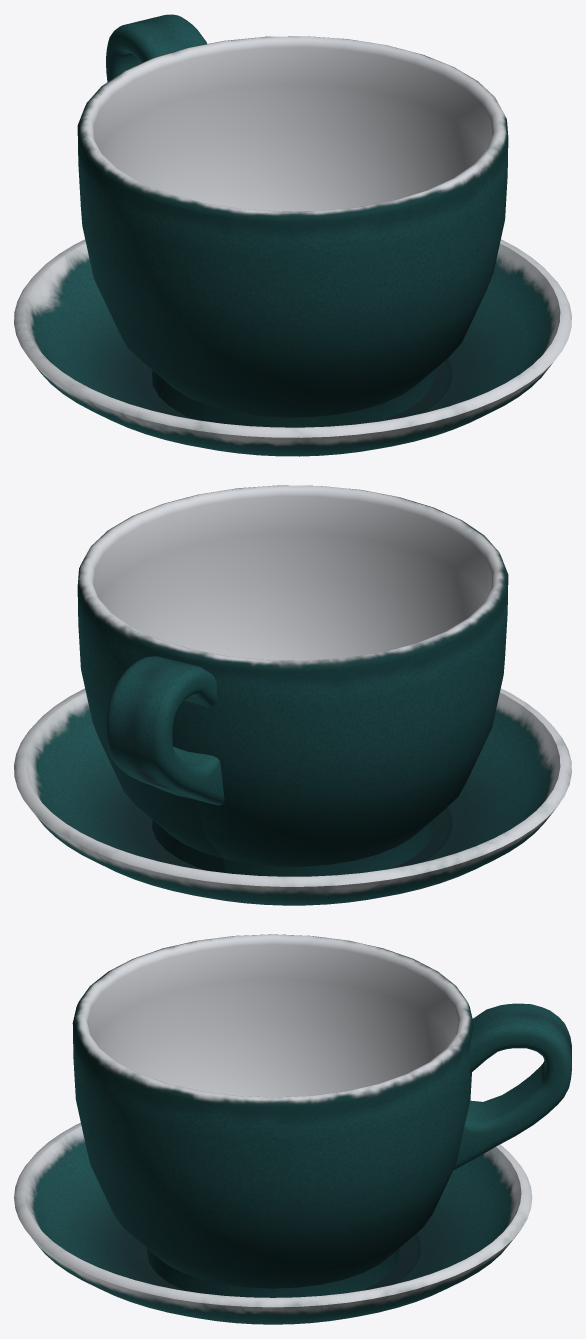
File: coffee_cup.glb
3 views of the same model, one above another, from view 1: azimuth 30°, elevation 25°; view 2: azimuth 150°, elevation 25°; view 3: azimuth 270°, elevation 25° (orthographic). The views are drawn at different scales.
Visible parts, largest first — view 1: Coffee, Plate; view 2: Coffee, Plate; view 3: Coffee, Plate.
Boxes of the visible parts, x1,y1,x2,y2 form: Coffee: [77, 14, 508, 427]; Plate: [14, 239, 571, 456]; Coffee: [77, 485, 508, 876]; Plate: [14, 688, 571, 905]; Coffee: [72, 934, 571, 1297]; Plate: [14, 1122, 532, 1324].
Bounding box in the file's own units: 2.58 × 1.37 × 2.78.
Materials: 1 (1 with a texture image).
